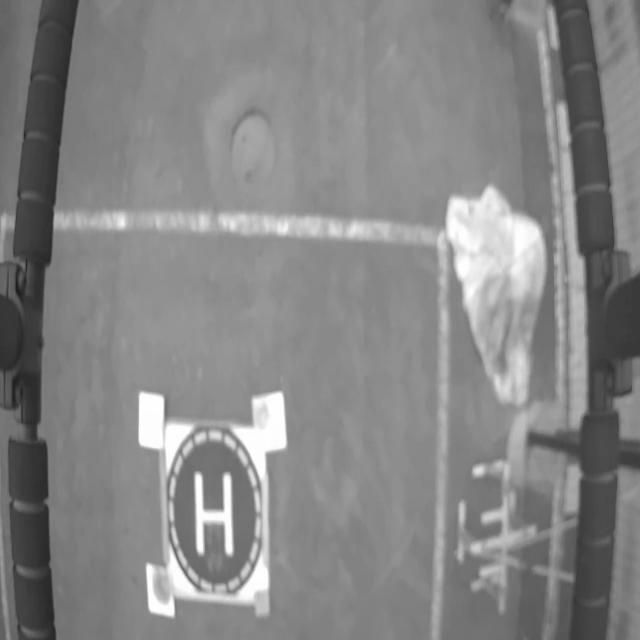Helipad: (194, 471, 236, 557)
